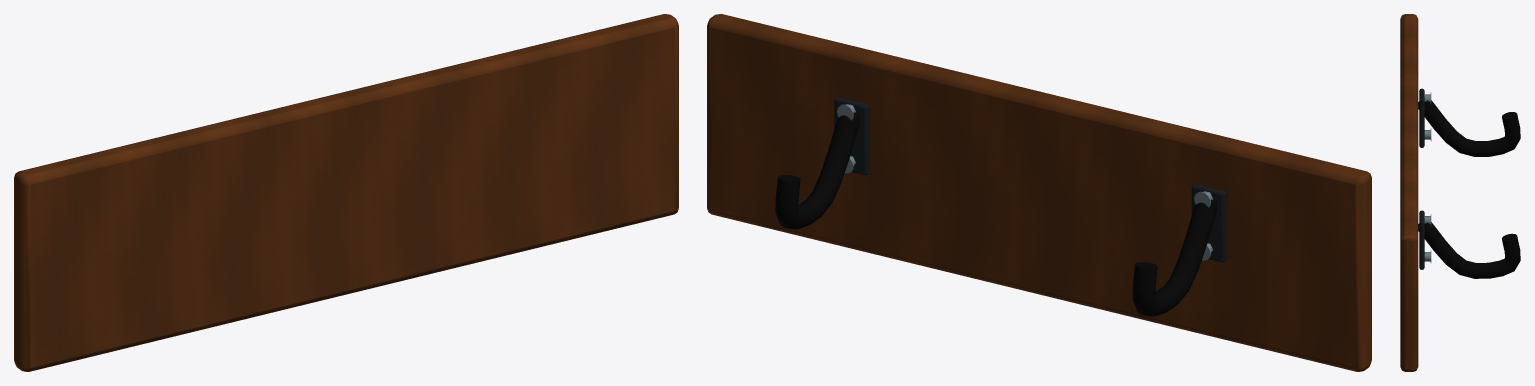
File: StorageWallHooks.gltf
3 renders of one model, left to right at view 1: azimuth 30°, elevation 25°; view 2: azimuth 150°, elevation 25°; view 3: azimuth 270°, elevation 25°, orthographic. The views are drawn at different scales.
Parts seen in each view (by area): view 1: StorageWallHooks__Body; view 2: StorageWallHooks__Body; view 3: StorageWallHooks__Body.
Boxes of the visible parts, x1=… form: StorageWallHooks__Body: x1=14, y1=14, x2=678, y2=371; StorageWallHooks__Body: x1=707, y1=14, x2=1371, y2=371; StorageWallHooks__Body: x1=1400, y1=14, x2=1520, y2=371.
Size of the model in its own units: 0.98 by 0.28 by 0.2218.
1 material, 1 textured.
